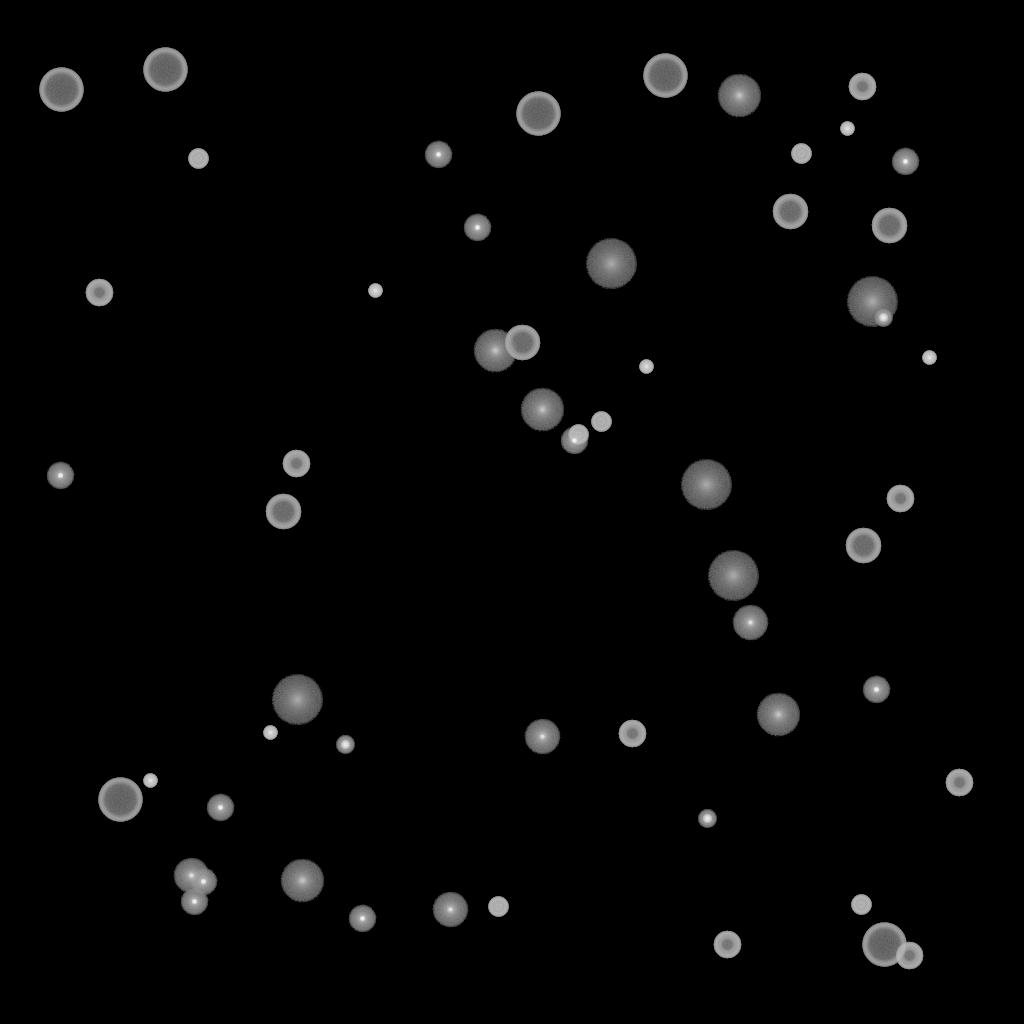depth:-10: (424, 141, 452, 169), (560, 427, 588, 455), (180, 888, 208, 916), (891, 148, 919, 176), (348, 905, 376, 933), (206, 794, 234, 822), (189, 868, 217, 896), (46, 462, 74, 490), (862, 676, 890, 704), (463, 214, 491, 242)
depth:-20: (336, 736, 354, 754), (874, 309, 892, 327), (698, 810, 716, 828)
depth:-30: (639, 360, 653, 374), (143, 774, 157, 788), (922, 351, 936, 365), (368, 284, 382, 298), (840, 122, 854, 136), (263, 726, 277, 740)
depth:-40: (188, 149, 208, 169), (488, 897, 508, 917), (568, 425, 588, 445), (851, 895, 871, 915), (791, 144, 811, 164), (591, 412, 611, 432)
depth:-50: (886, 485, 914, 513), (618, 720, 646, 748), (713, 931, 741, 959), (85, 279, 113, 307), (282, 450, 310, 478), (848, 73, 876, 101), (945, 769, 973, 797), (895, 942, 923, 970)
depth:-60: (772, 194, 808, 230), (845, 528, 881, 564), (265, 494, 301, 530), (504, 325, 540, 361), (871, 208, 907, 244)
depth:-70: (643, 54, 687, 98), (516, 92, 560, 136), (862, 923, 906, 967), (143, 48, 187, 92), (39, 68, 83, 112), (98, 778, 142, 822)
depth:0: (173, 858, 209, 894), (524, 719, 560, 755), (432, 892, 468, 928), (732, 605, 768, 641)
depth:10: (756, 693, 800, 737), (473, 329, 517, 373), (717, 74, 761, 118), (280, 859, 324, 903), (520, 388, 564, 432)
depth:20: (271, 675, 323, 725), (680, 460, 732, 510), (846, 277, 898, 327), (585, 239, 637, 289), (707, 551, 759, 601)
